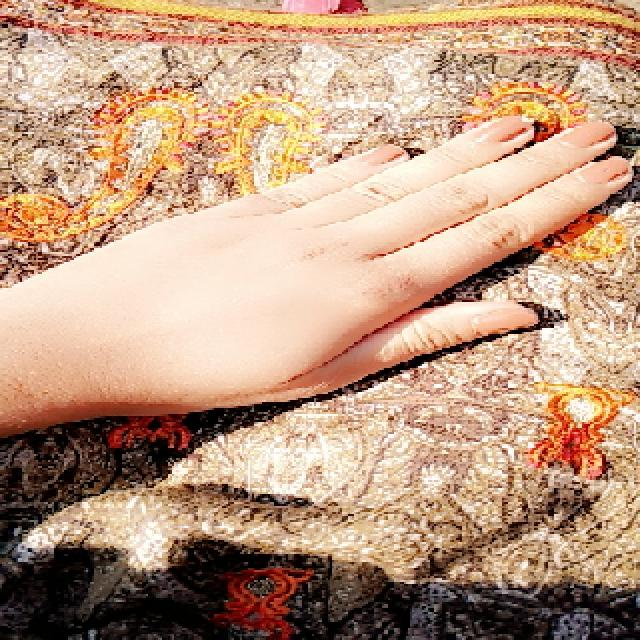Nail: (475, 307, 538, 337), (474, 116, 532, 145), (563, 120, 615, 148), (580, 157, 631, 185), (364, 145, 407, 164)
